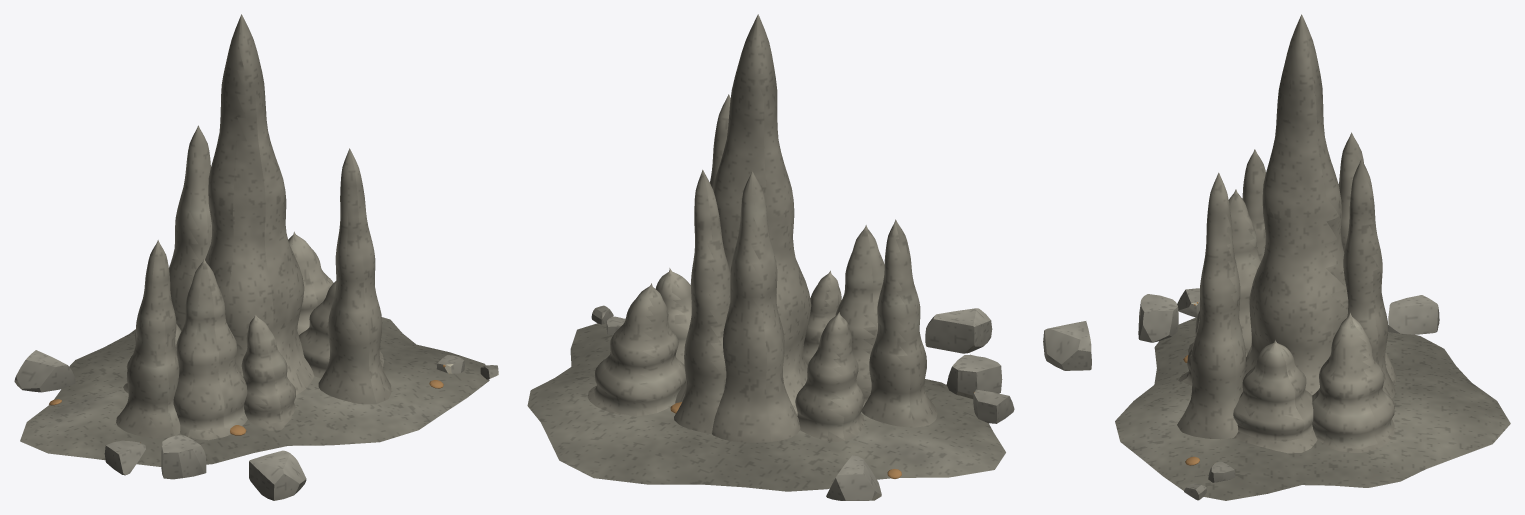
The picture shows the model from 3 angles, left to right: view 1: azimuth 30°, elevation 25°; view 2: azimuth 150°, elevation 25°; view 3: azimuth 270°, elevation 25°; orthographic projection. The views are drawn at different scales.
Visible parts, largest first — view 1: weathered mineral; view 2: weathered mineral; view 3: weathered mineral.
Part boxes in pixels (<box>): weathered mineral: <box>15,14,498,500</box>; weathered mineral: <box>527,14,1014,500</box>; weathered mineral: <box>1043,14,1510,500</box>.
Size of the model in its own units: 1.09 by 0.9135 by 1.01.
Materials: 3 (2 with a texture image).
